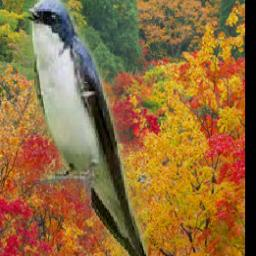Swallow: (25, 0, 149, 256)
